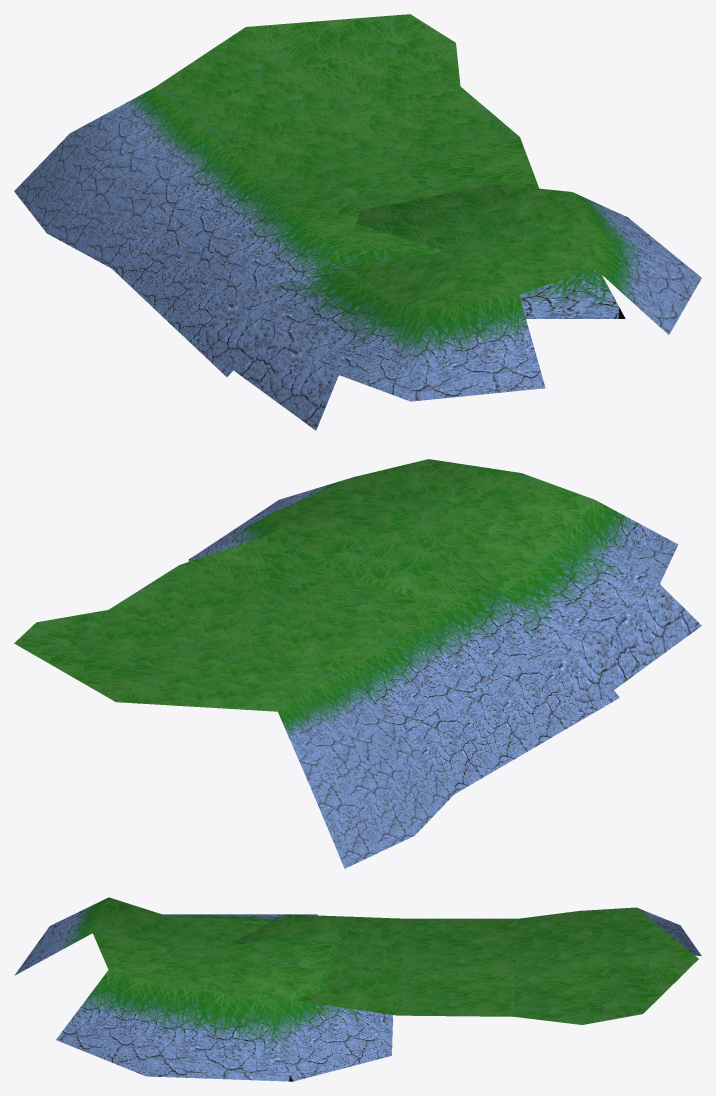
File: track_chinese_env_terrain_07.FBX
3 views of the same model, one above another, from view 1: azimuth 30°, elevation 25°; view 2: azimuth 150°, elevation 25°; view 3: azimuth 270°, elevation 25° (orthographic). The views are drawn at different scales.
Parts seen in each view (by area): view 1: track_chinese_env_terrain_07; view 2: track_chinese_env_terrain_07; view 3: track_chinese_env_terrain_07.
Boxes of the visible parts, left/top/right/bottom form: track_chinese_env_terrain_07: left=14, top=14, right=701, bottom=430; track_chinese_env_terrain_07: left=14, top=459, right=701, bottom=868; track_chinese_env_terrain_07: left=14, top=897, right=701, bottom=1081.
Bounding box in the file's own units: 216 × 55.73 × 346.
